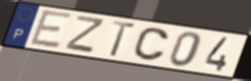0: (168, 30, 203, 68)
4: (203, 36, 229, 73)
C: (131, 27, 171, 63)
E: (28, 8, 74, 50)
T: (108, 19, 138, 58)
Z: (63, 15, 106, 56)
